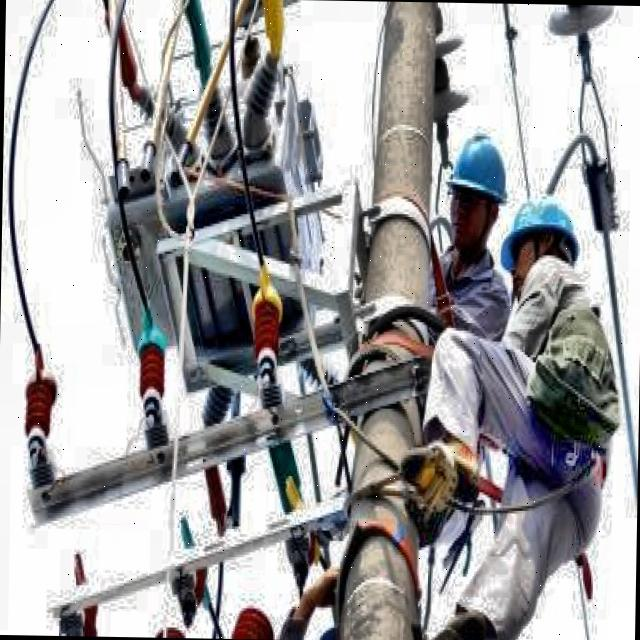helmet: (494, 190, 584, 302), (443, 125, 514, 259)
